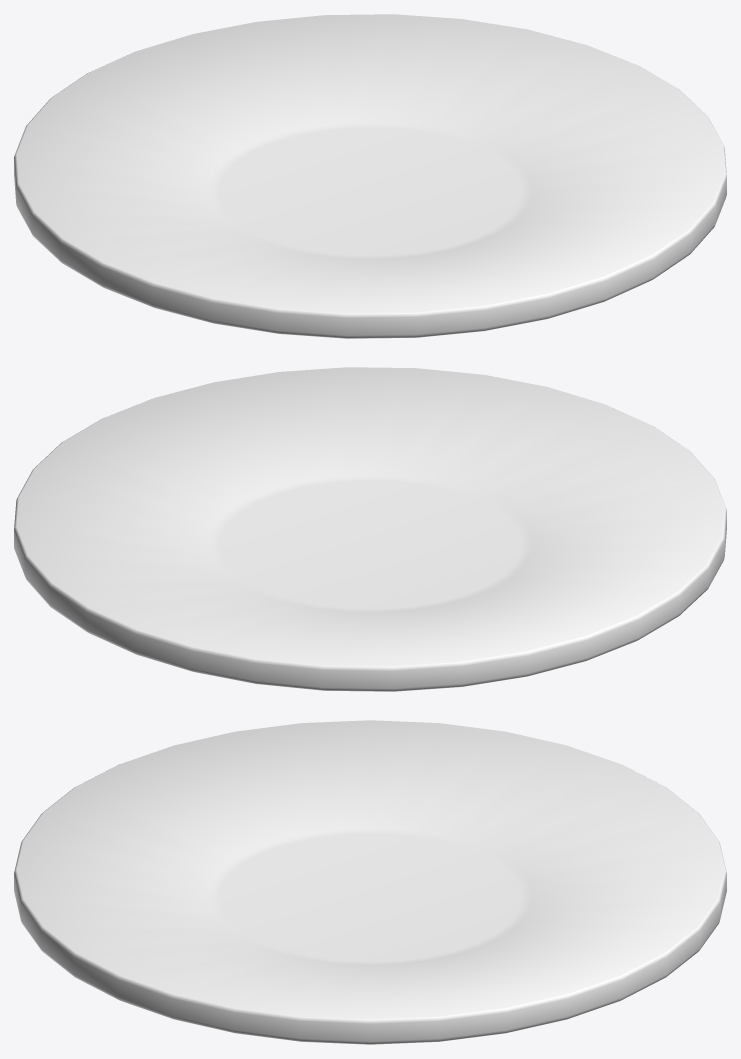
File: Saucer.fbx
3 renders of one model, top to bottom at view 1: azimuth 30°, elevation 25°; view 2: azimuth 150°, elevation 25°; view 3: azimuth 270°, elevation 25°, orthographic.
Visible parts, largest first — view 1: R_Saucer; view 2: R_Saucer; view 3: R_Saucer.
Boxes of the visible parts, x1=… form: R_Saucer: x1=14, y1=14, x2=726, y2=338; R_Saucer: x1=14, y1=367, x2=726, y2=691; R_Saucer: x1=14, y1=720, x2=726, y2=1044.
Size of the model in its own units: 3.94 by 0.3185 by 3.94.
Materials: 1 (1 with a texture image).
